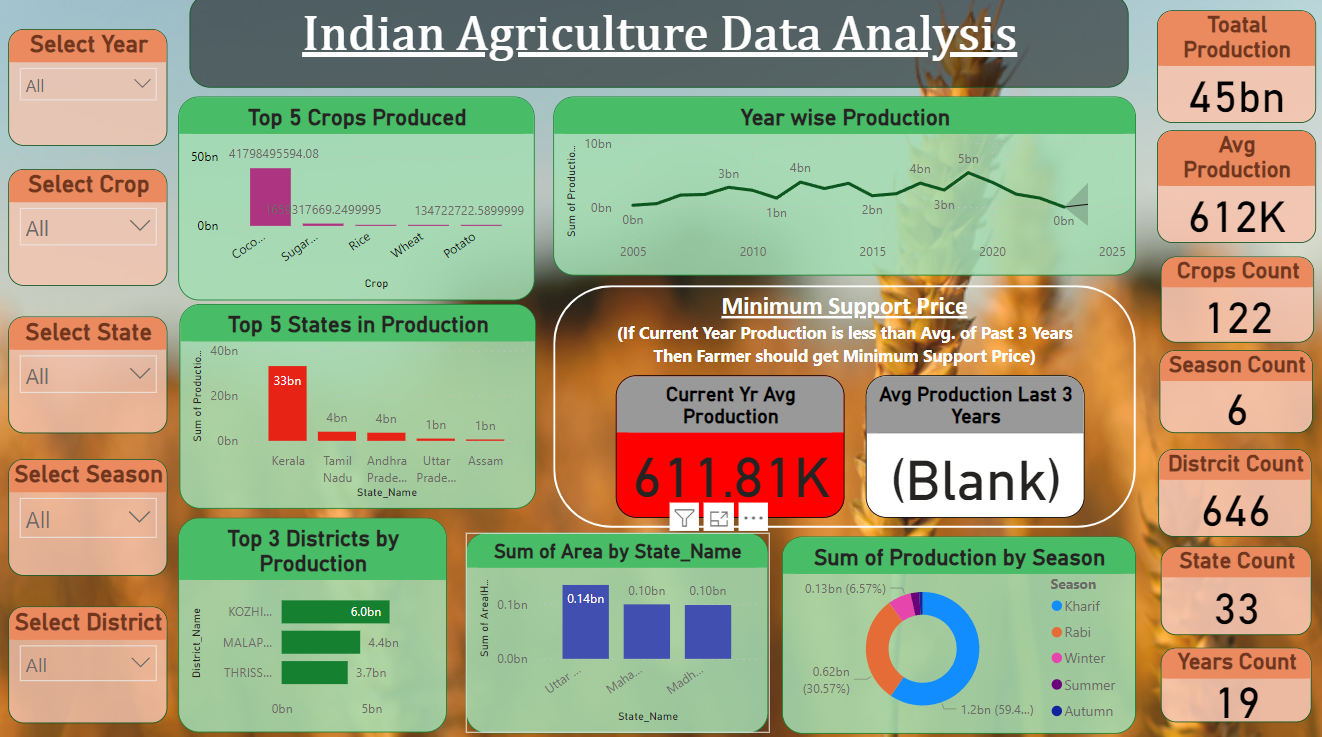

This screenshot's page, from the dashboard's own definition file:
{"tool":"powerbi","page":{"name":"Home Page","canvas":[1280,720],"ordinal":2},"visuals":[{"type":"textbox","box":[185.8,0,906,90.5],"z":0},{"type":"slicer","title":"Select Year","fields":{"Values":["apy_1.Crop_Year"]},"box":[11,34.3,153.7,112.5],"z":1000},{"type":"slicer","title":"Select Crop","fields":{"Values":["apy_1.Crop"]},"box":[11,168.8,153.7,112.5],"z":2000},{"type":"slicer","title":"Select State","fields":{"Values":["apy_1.State_Name"]},"box":[11,311.5,153.7,112.5],"z":3000},{"type":"slicer","title":"Select Season","fields":{"Values":["apy_1.Season"]},"box":[11,448.7,153.7,112.5],"z":4000},{"type":"slicer","title":"Select District","fields":{"Values":["apy_1.District_Name"]},"box":[11,591.4,153.7,112.5],"z":5000},{"type":"columnChart","title":"Top 5 Crops Produced","fields":{"Category":["apy_1.Crop"],"Y":["Sum(apy_1.Production(Tons))"]},"box":[174.9,98.9,343.8,196.6],"z":6000},{"type":"columnChart","title":"Top 5 States in Production","fields":{"Category":["apy_1.State_Name"],"Y":["Sum(apy_1.Production(Tons))"]},"box":[176.1,299.2,343.8,197.9],"z":7000},{"type":"donutChart","title":"Sum of Production by Season","fields":{"Y":["Sum(apy_1.Production(Tons))"],"Category":["apy_1.Season"]},"box":[757.6,523.6,341.4,190.6],"z":8000},{"type":"barChart","title":"Top 3 Districts by Production","fields":{"Category":["apy_1.District_Name"],"Y":["Sum(apy_1.Production(Tons))"]},"box":[174.9,505.5,259.4,207.5],"z":9000},{"type":"lineChart","title":"Year wise Production","fields":{"Category":["apy_1.Crop_Year"],"Y":["Sum(apy_1.Production(Tons))"]},"box":[536.9,98.9,562.2,172.5],"z":10000},{"type":"shape","box":[536.9,281.1,562.2,234],"z":11000},{"type":"textbox","box":[536.9,281.1,562.2,86.9],"z":12000},{"type":"card","title":"Current Yr Avg Production","fields":{"Values":["apy_1.Avg Production"]},"box":[597.2,368,220.8,137.5],"z":13000},{"type":"card","title":"Avg Production Last 3 Years","fields":{"Values":["apy_1.AverageProductionLastThreeYears"]},"box":[838.5,368,211.1,137.5],"z":14000},{"type":"card","title":"Toatal Production","fields":{"Values":["apy_1.Total Production"]},"box":[1119.6,15.7,153.2,108.6],"z":15000},{"type":"card","title":"Avg Production","fields":{"Values":["apy_1.Avg Production"]},"box":[1119.6,131.5,153.2,108.6],"z":16000},{"type":"card","title":"State Count","fields":{"Values":["apy_1.State Count"]},"box":[1123.2,533.2,146,85.7],"z":17000},{"type":"card","title":"Distrcit Count","fields":{"Values":["apy_1.Distinct District"]},"box":[1120.8,439.1,148.4,84.5],"z":18000},{"type":"card","title":"Season Count","fields":{"Values":["apy_1.Season Count"]},"box":[1122,343.8,148.4,79.6],"z":19000},{"type":"card","title":"Crops Count","fields":{"Values":["apy_1.No. of Crops"]},"box":[1123.2,253.4,148.4,83.2],"z":20000},{"type":"card","title":"Years Count","fields":{"Values":["apy_1.Years Count"]},"box":[1123.2,631,146,72.4],"z":21000},{"type":"columnChart","title":"Sum of Area by State_Name","fields":{"Category":["apy_1.State_Name"],"Y":["Sum(apy_1.Area(Hectare))"]},"box":[452.8,520.1,292.3,193.5],"z":22000}]}

Visuals, with their boxes in screenshot pixels (x1, y1, x2, y2), scaled from the page's 1280x720 canvas onto the 1322x737 screenshot:
textbox: 192 0 1128 93
"Select Year" slicer: 11 35 170 150
"Select Crop" slicer: 11 173 170 288
"Select State" slicer: 11 319 170 434
"Select Season" slicer: 11 459 170 574
"Select District" slicer: 11 605 170 721
"Top 5 Crops Produced" columnChart: 181 101 536 302
"Top 5 States in Production" columnChart: 182 306 537 509
"Sum of Production by Season" donutChart: 782 536 1135 731
"Top 3 Districts by Production" barChart: 181 517 449 730
"Year wise Production" lineChart: 555 101 1135 278
shape: 555 288 1135 527
textbox: 555 288 1135 377
"Current Yr Avg Production" card: 617 377 845 517
"Avg Production Last 3 Years" card: 866 377 1084 517
"Toatal Production" card: 1156 16 1315 127
"Avg Production" card: 1156 135 1315 246
"State Count" card: 1160 546 1311 634
"Distrcit Count" card: 1158 449 1311 536
"Season Count" card: 1159 352 1312 433
"Crops Count" card: 1160 259 1313 345
"Years Count" card: 1160 646 1311 720
"Sum of Area by State_Name" columnChart: 468 532 770 730
